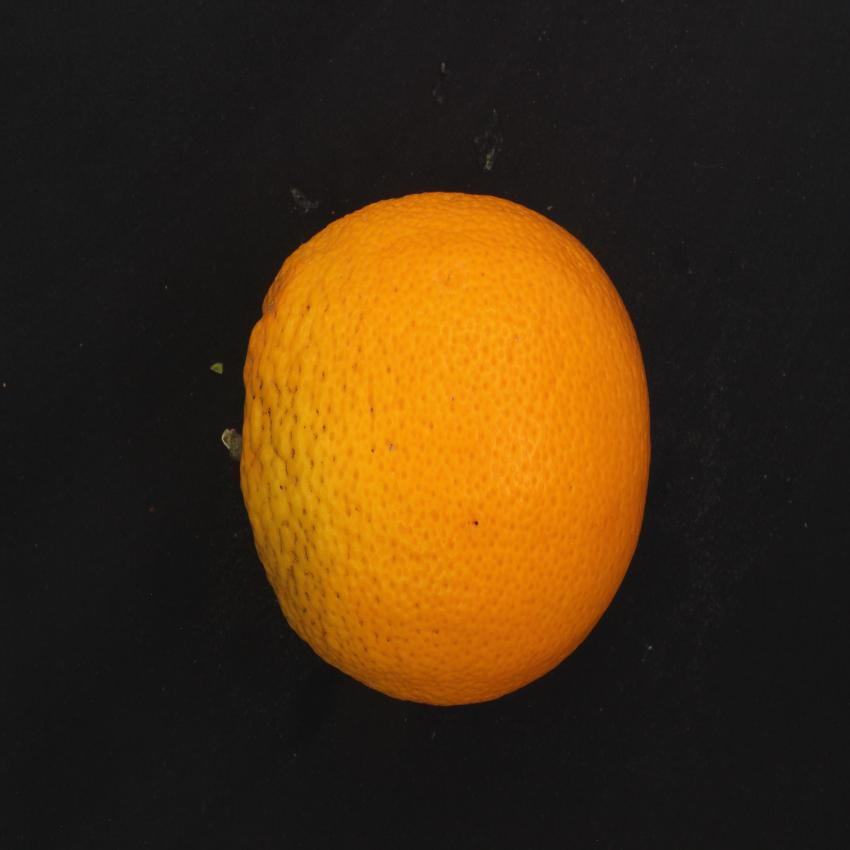Buen estado: (223, 182, 659, 719)
